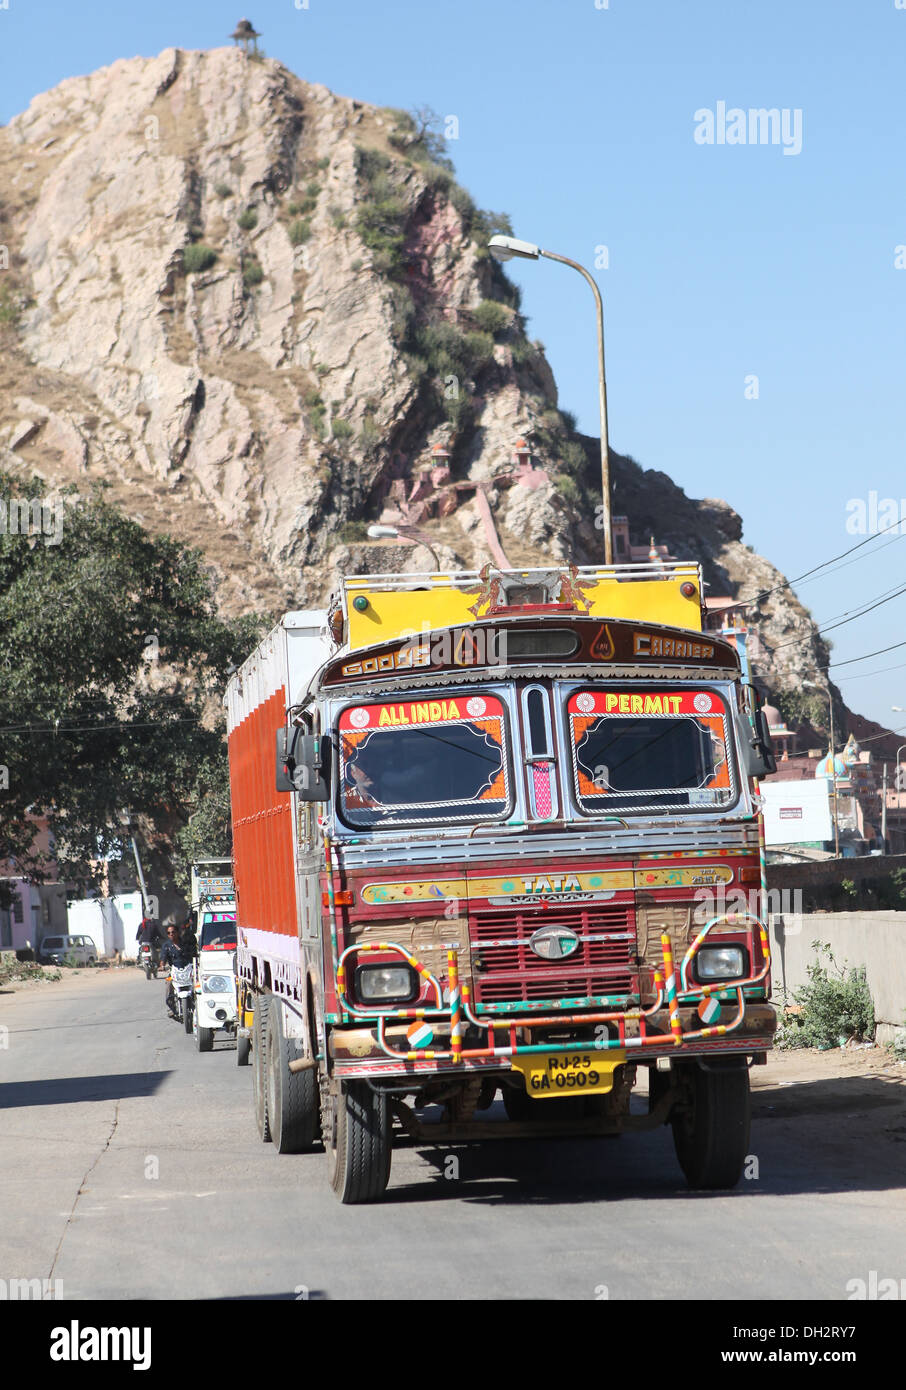truck: (250, 593, 780, 1209)
